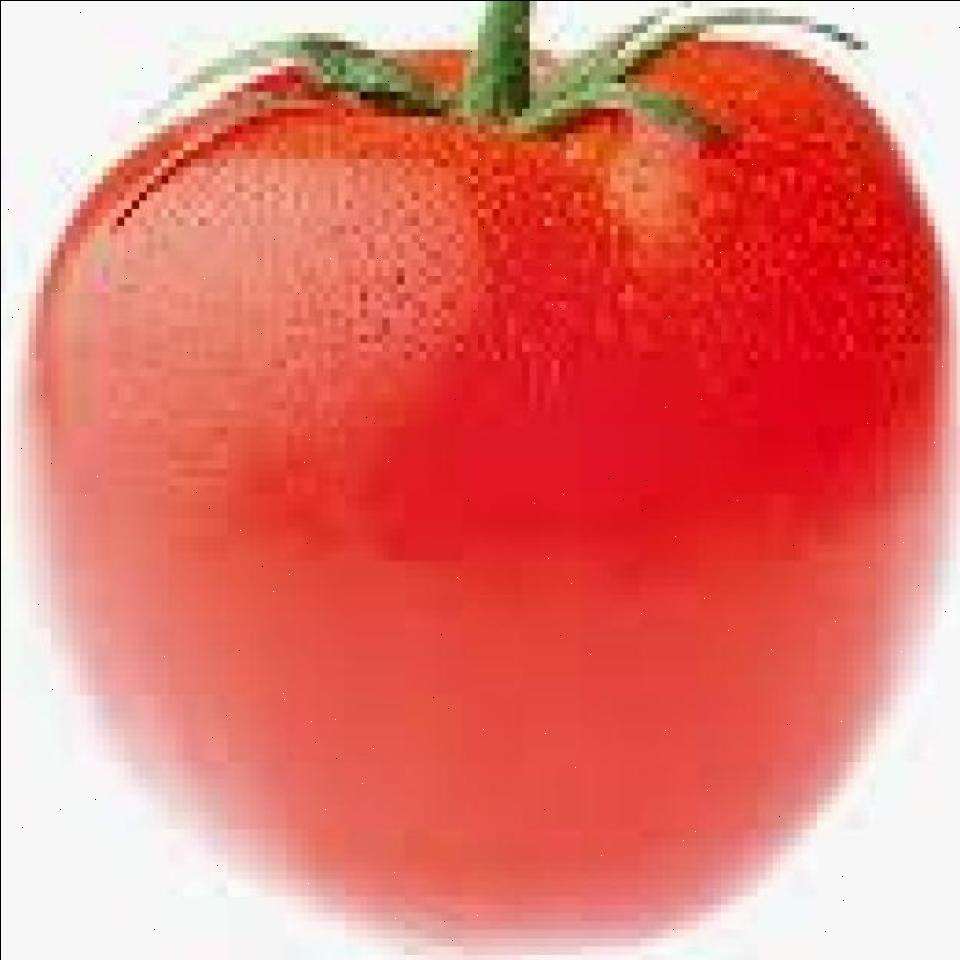Healthy: (42, 7, 960, 941)
